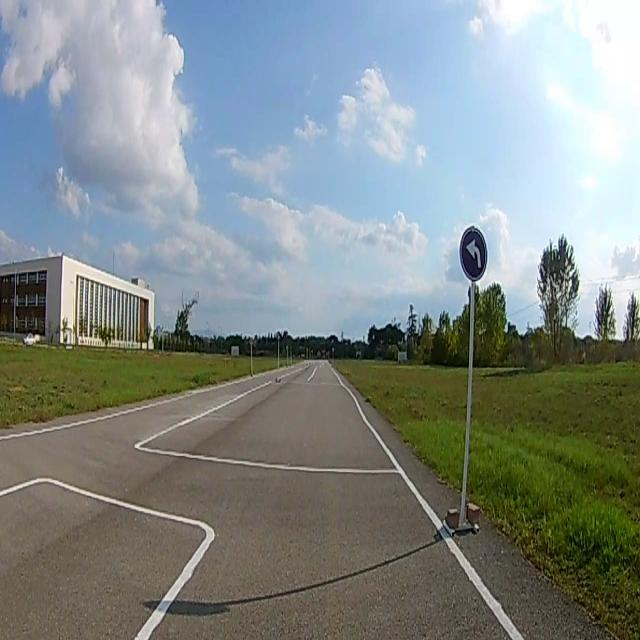sol: (459, 227, 487, 277)
